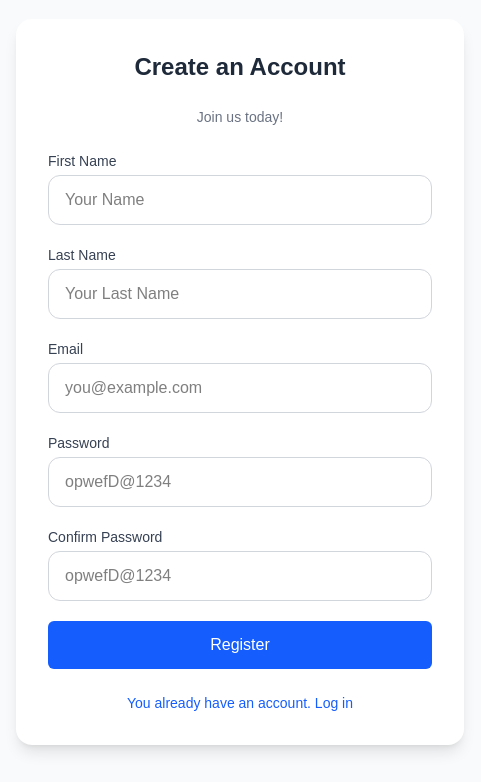
Test: RegisterForm › shows an error if passwords do not match
Type "Password1" into the password field labelled "Password" at x=240, y=482, box [48,457,432,507]
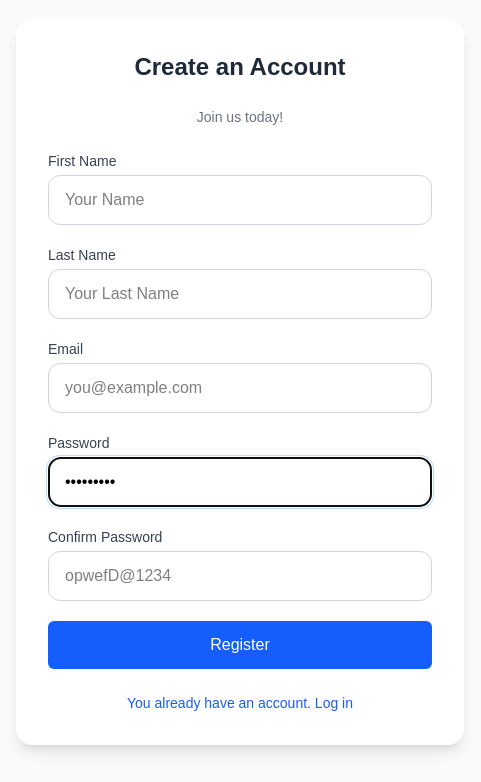
Type "Password2" into the password field labelled "Confirm Password" at x=240, y=576, box [48,551,432,601]
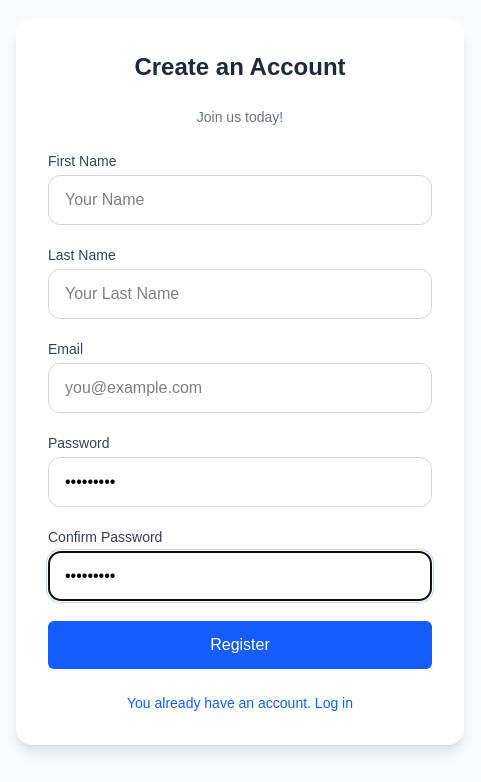
Click the button "Register" at x=240, y=645, box [48,621,432,669]
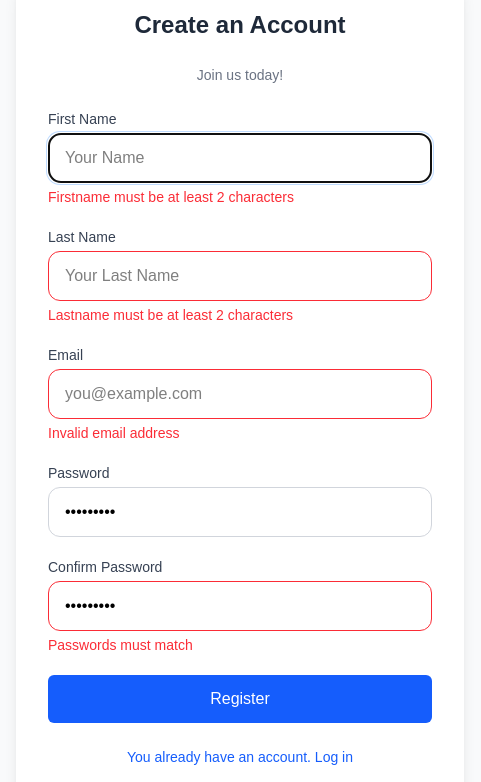
Expected: the text "Passwords must match" is shown, [48,637,193,653]
